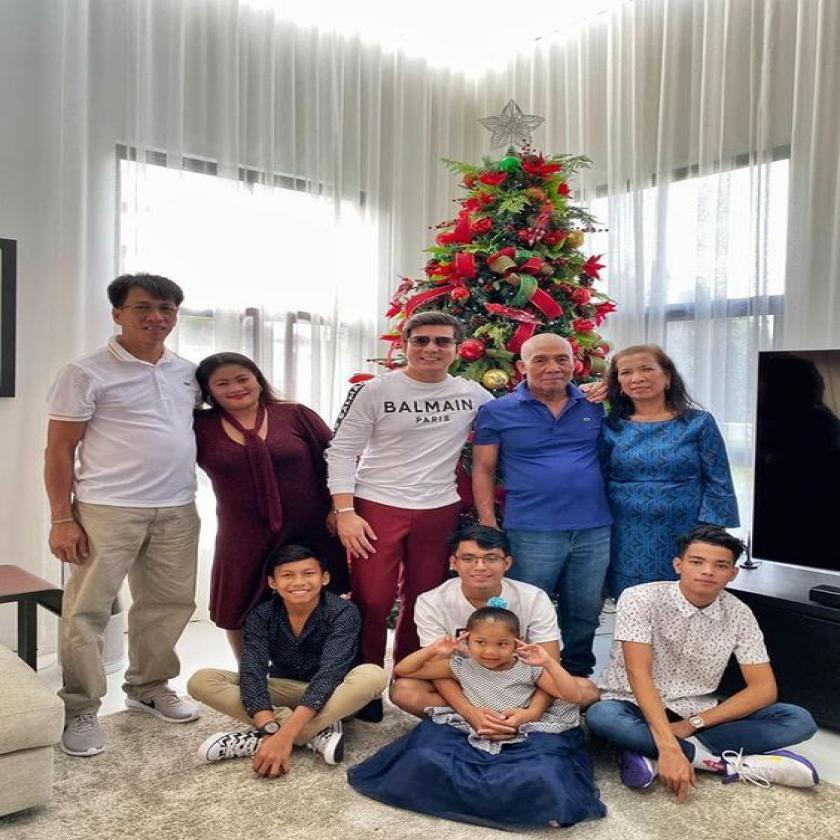Sin_casco: (106, 273, 189, 366), (672, 526, 751, 620), (442, 525, 523, 601), (194, 349, 273, 423), (609, 344, 682, 418), (460, 605, 528, 680), (400, 309, 470, 381), (263, 542, 334, 611), (520, 333, 580, 400)
